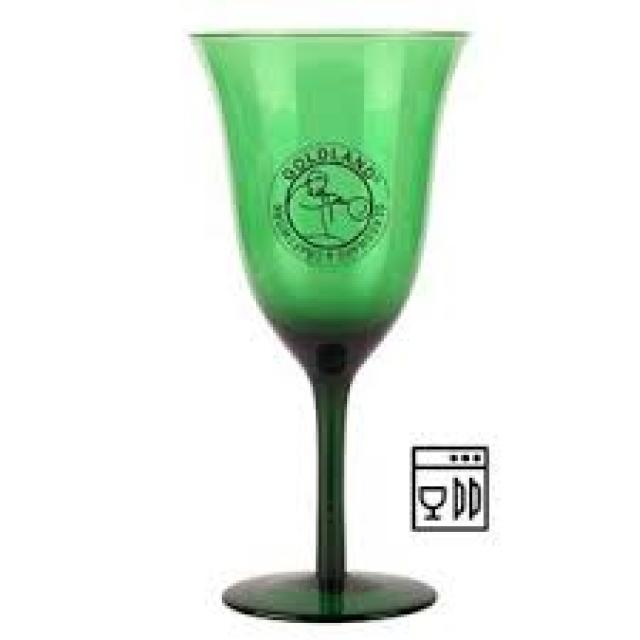Glass-Non-Biodegradable but Recyclable-: (182, 30, 472, 620)
